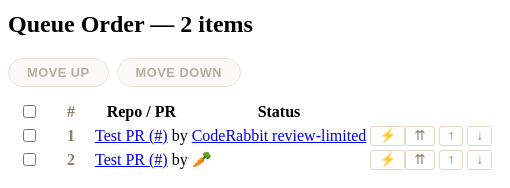
QueueOrder › select all › selects all items when header checkbox is clicked
Click the checkbox named "Select all items". click: (30, 111)
box: [23, 105, 36, 118]
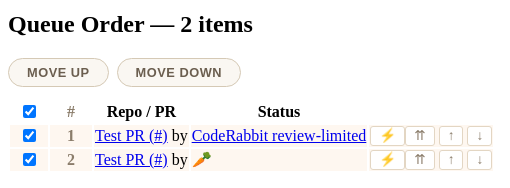
Now the checkbox named "Select all items" is checked, box [23, 105, 36, 118]
Now the checkbox named "Select #" in the row of "CodeRabbit review-limited" is checked, box [23, 129, 36, 142]
Now the 2nd checkbox named "Select #" is checked, box [23, 153, 36, 166]
